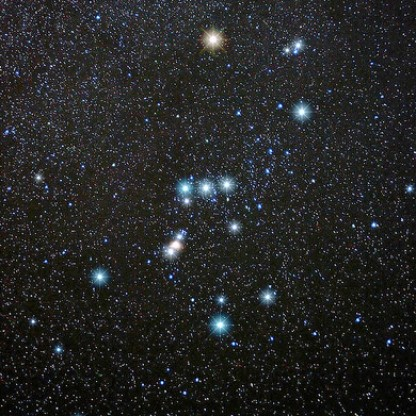Orion: (190, 15, 229, 60), (206, 305, 242, 344), (84, 261, 114, 295), (288, 97, 316, 130), (165, 172, 192, 199), (218, 171, 242, 199), (197, 169, 216, 203)
